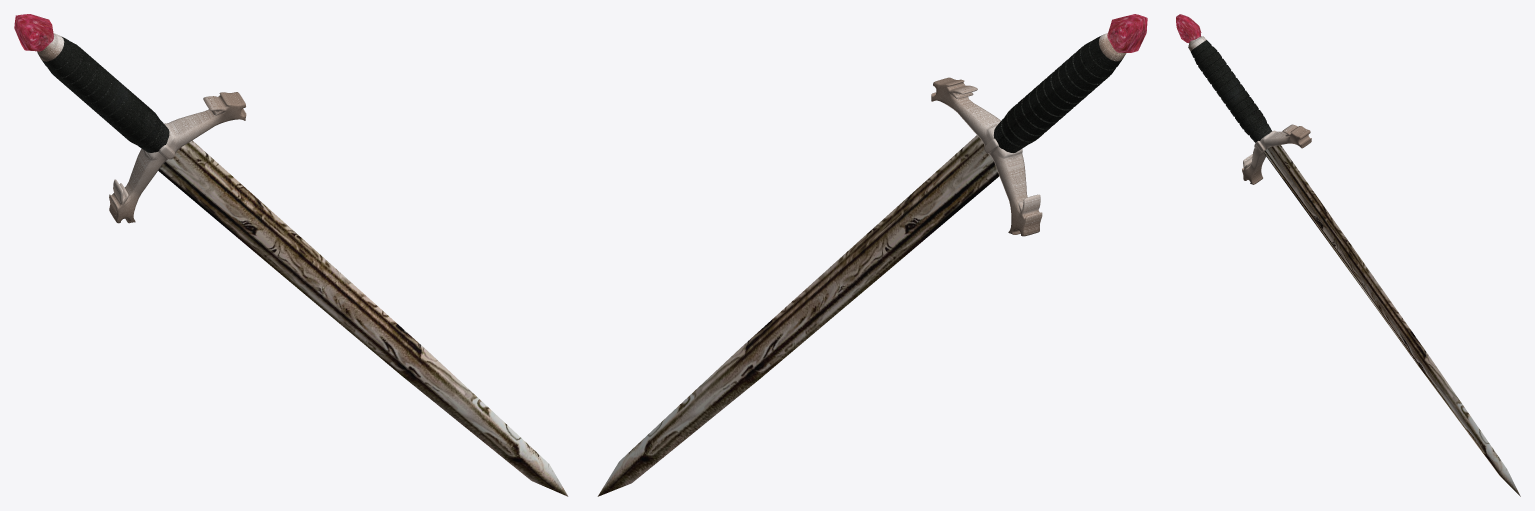
3 renders of one model, left to right at view 1: azimuth 30°, elevation 25°; view 2: azimuth 150°, elevation 25°; view 3: azimuth 330°, elevation 25°, orthographic. The views are drawn at different scales.
Parts seen in each view (by area): view 1: Sword; view 2: Sword; view 3: Sword.
Boxes of the visible parts, x1,y1,x2,y2 form: Sword: [14, 14, 568, 496]; Sword: [597, 14, 1147, 496]; Sword: [1176, 14, 1520, 496].
Bounding box in the file's own units: 822 × 876 × 84.92.
Materials: 4 (4 with a texture image).
